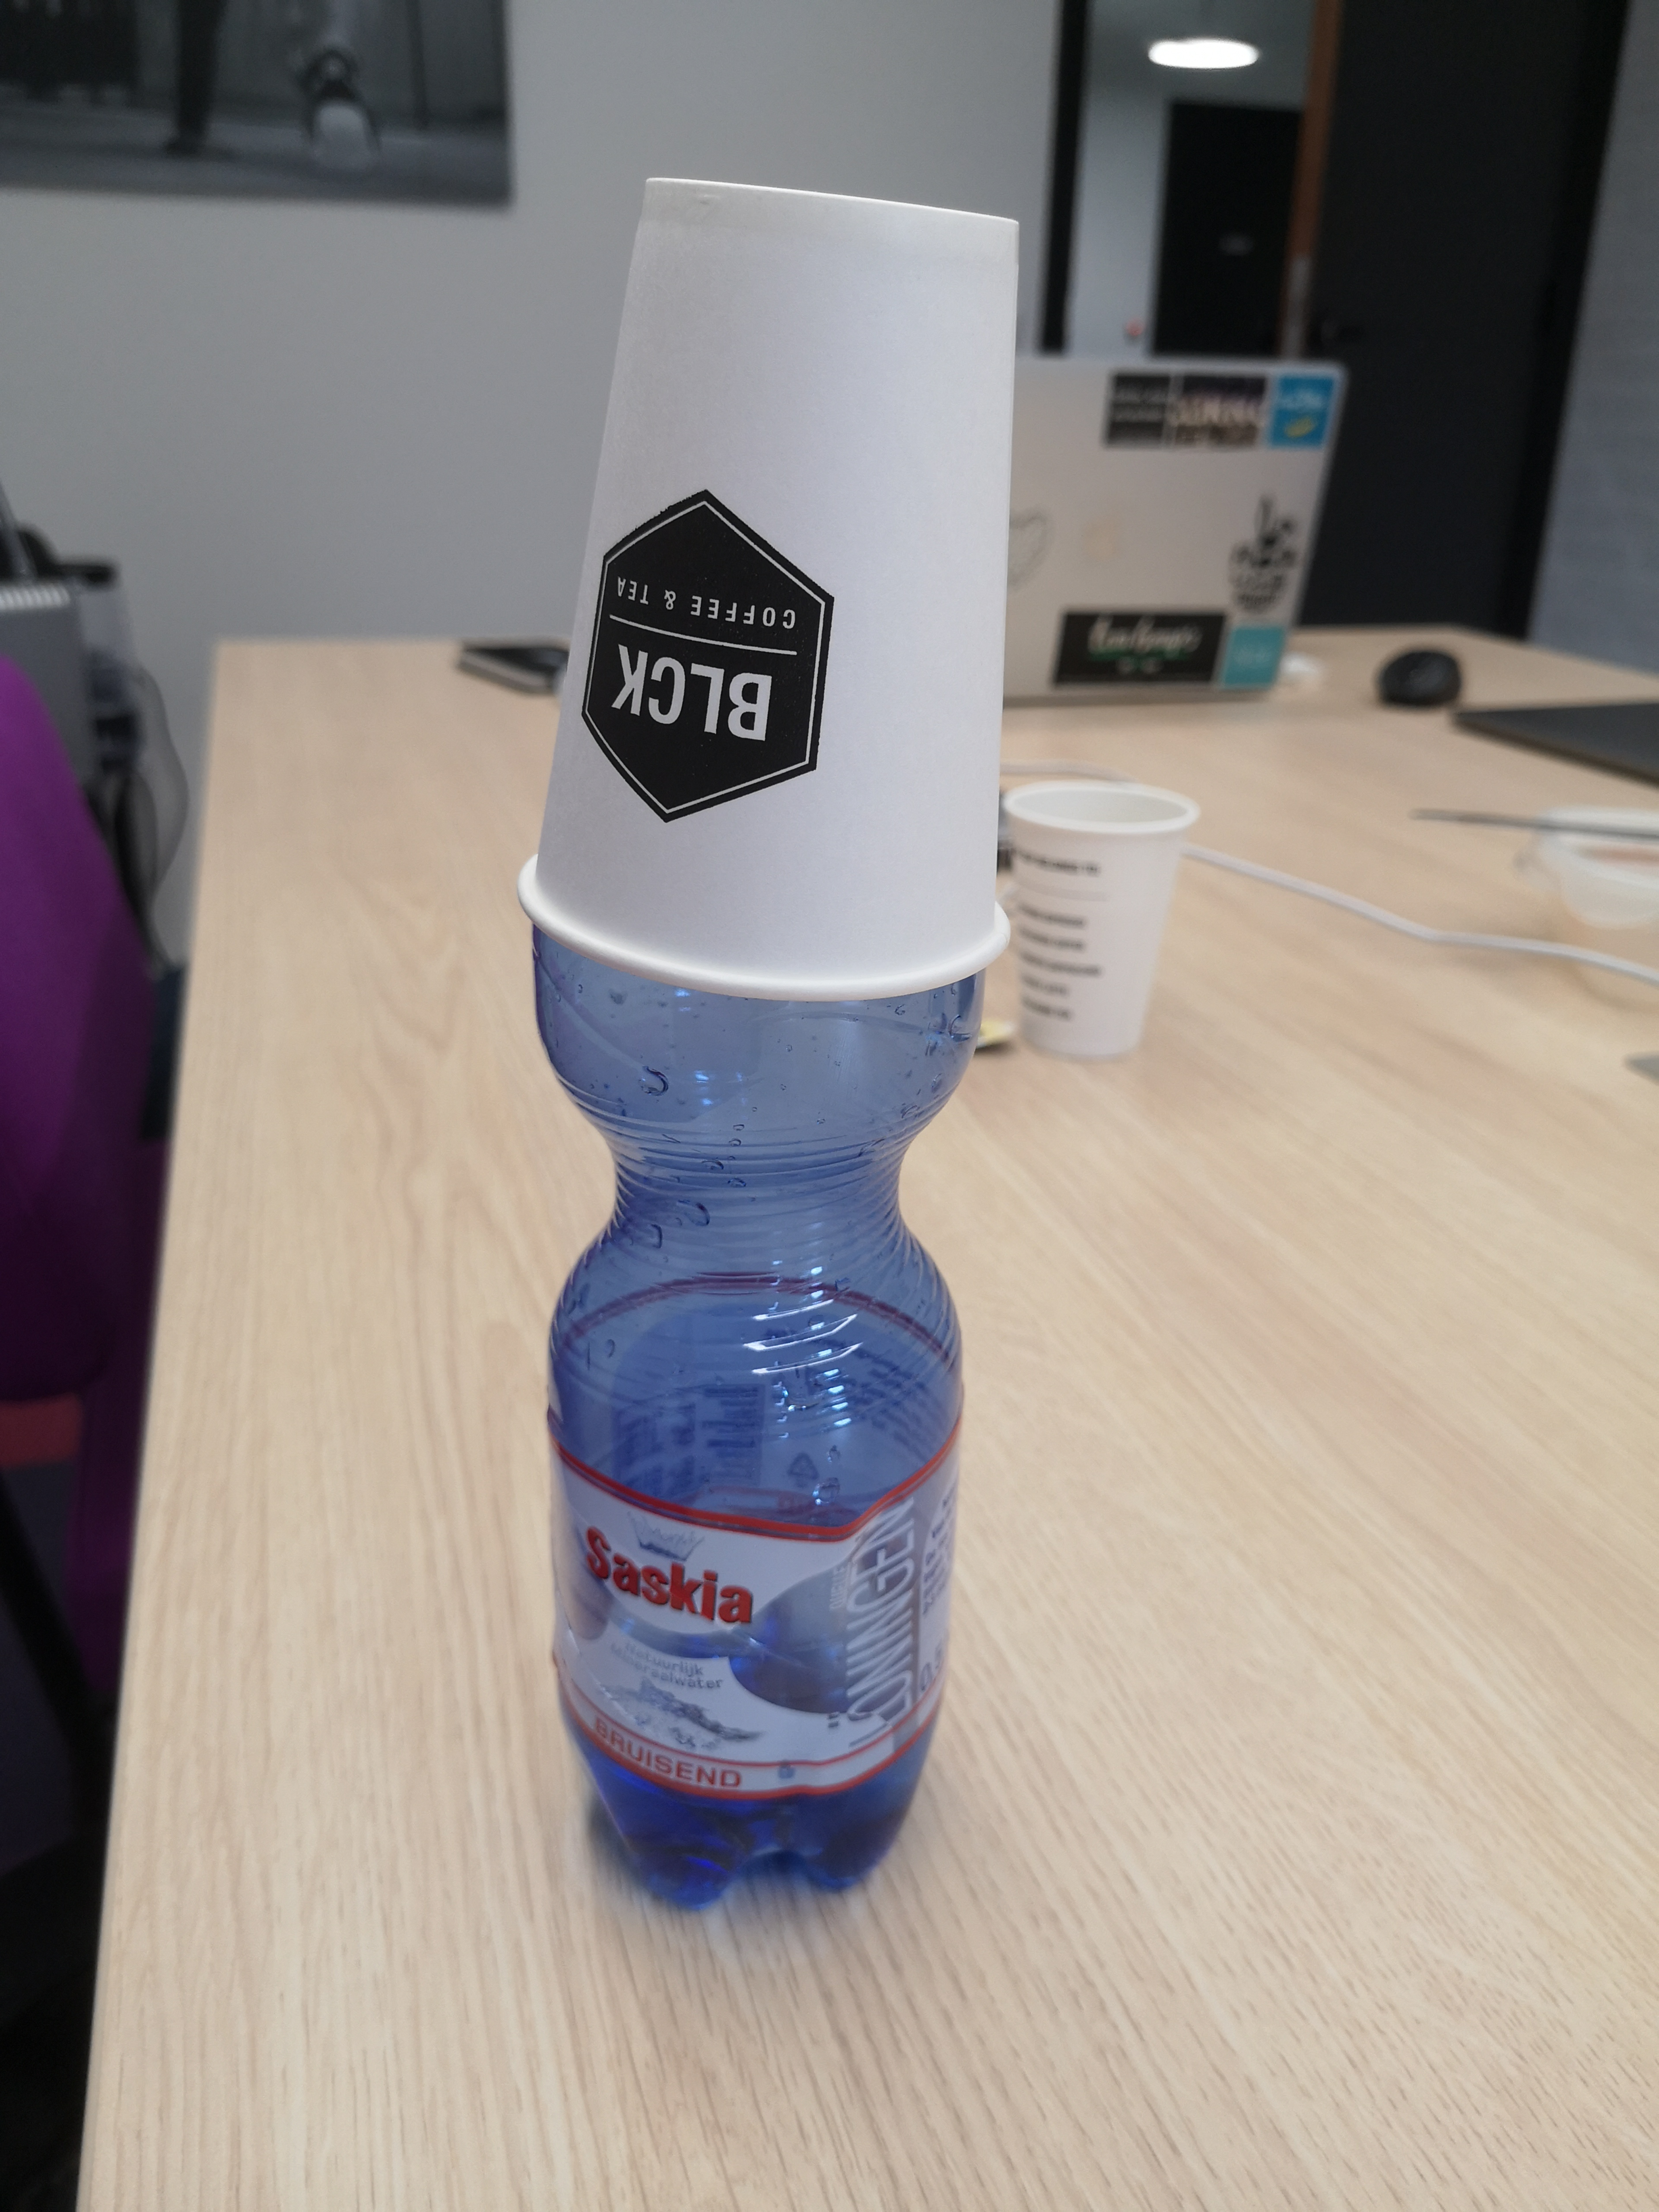cup: (500, 160, 1060, 1017), (1006, 763, 1208, 1064)
plastic_bottle: (538, 991, 1006, 1921)
